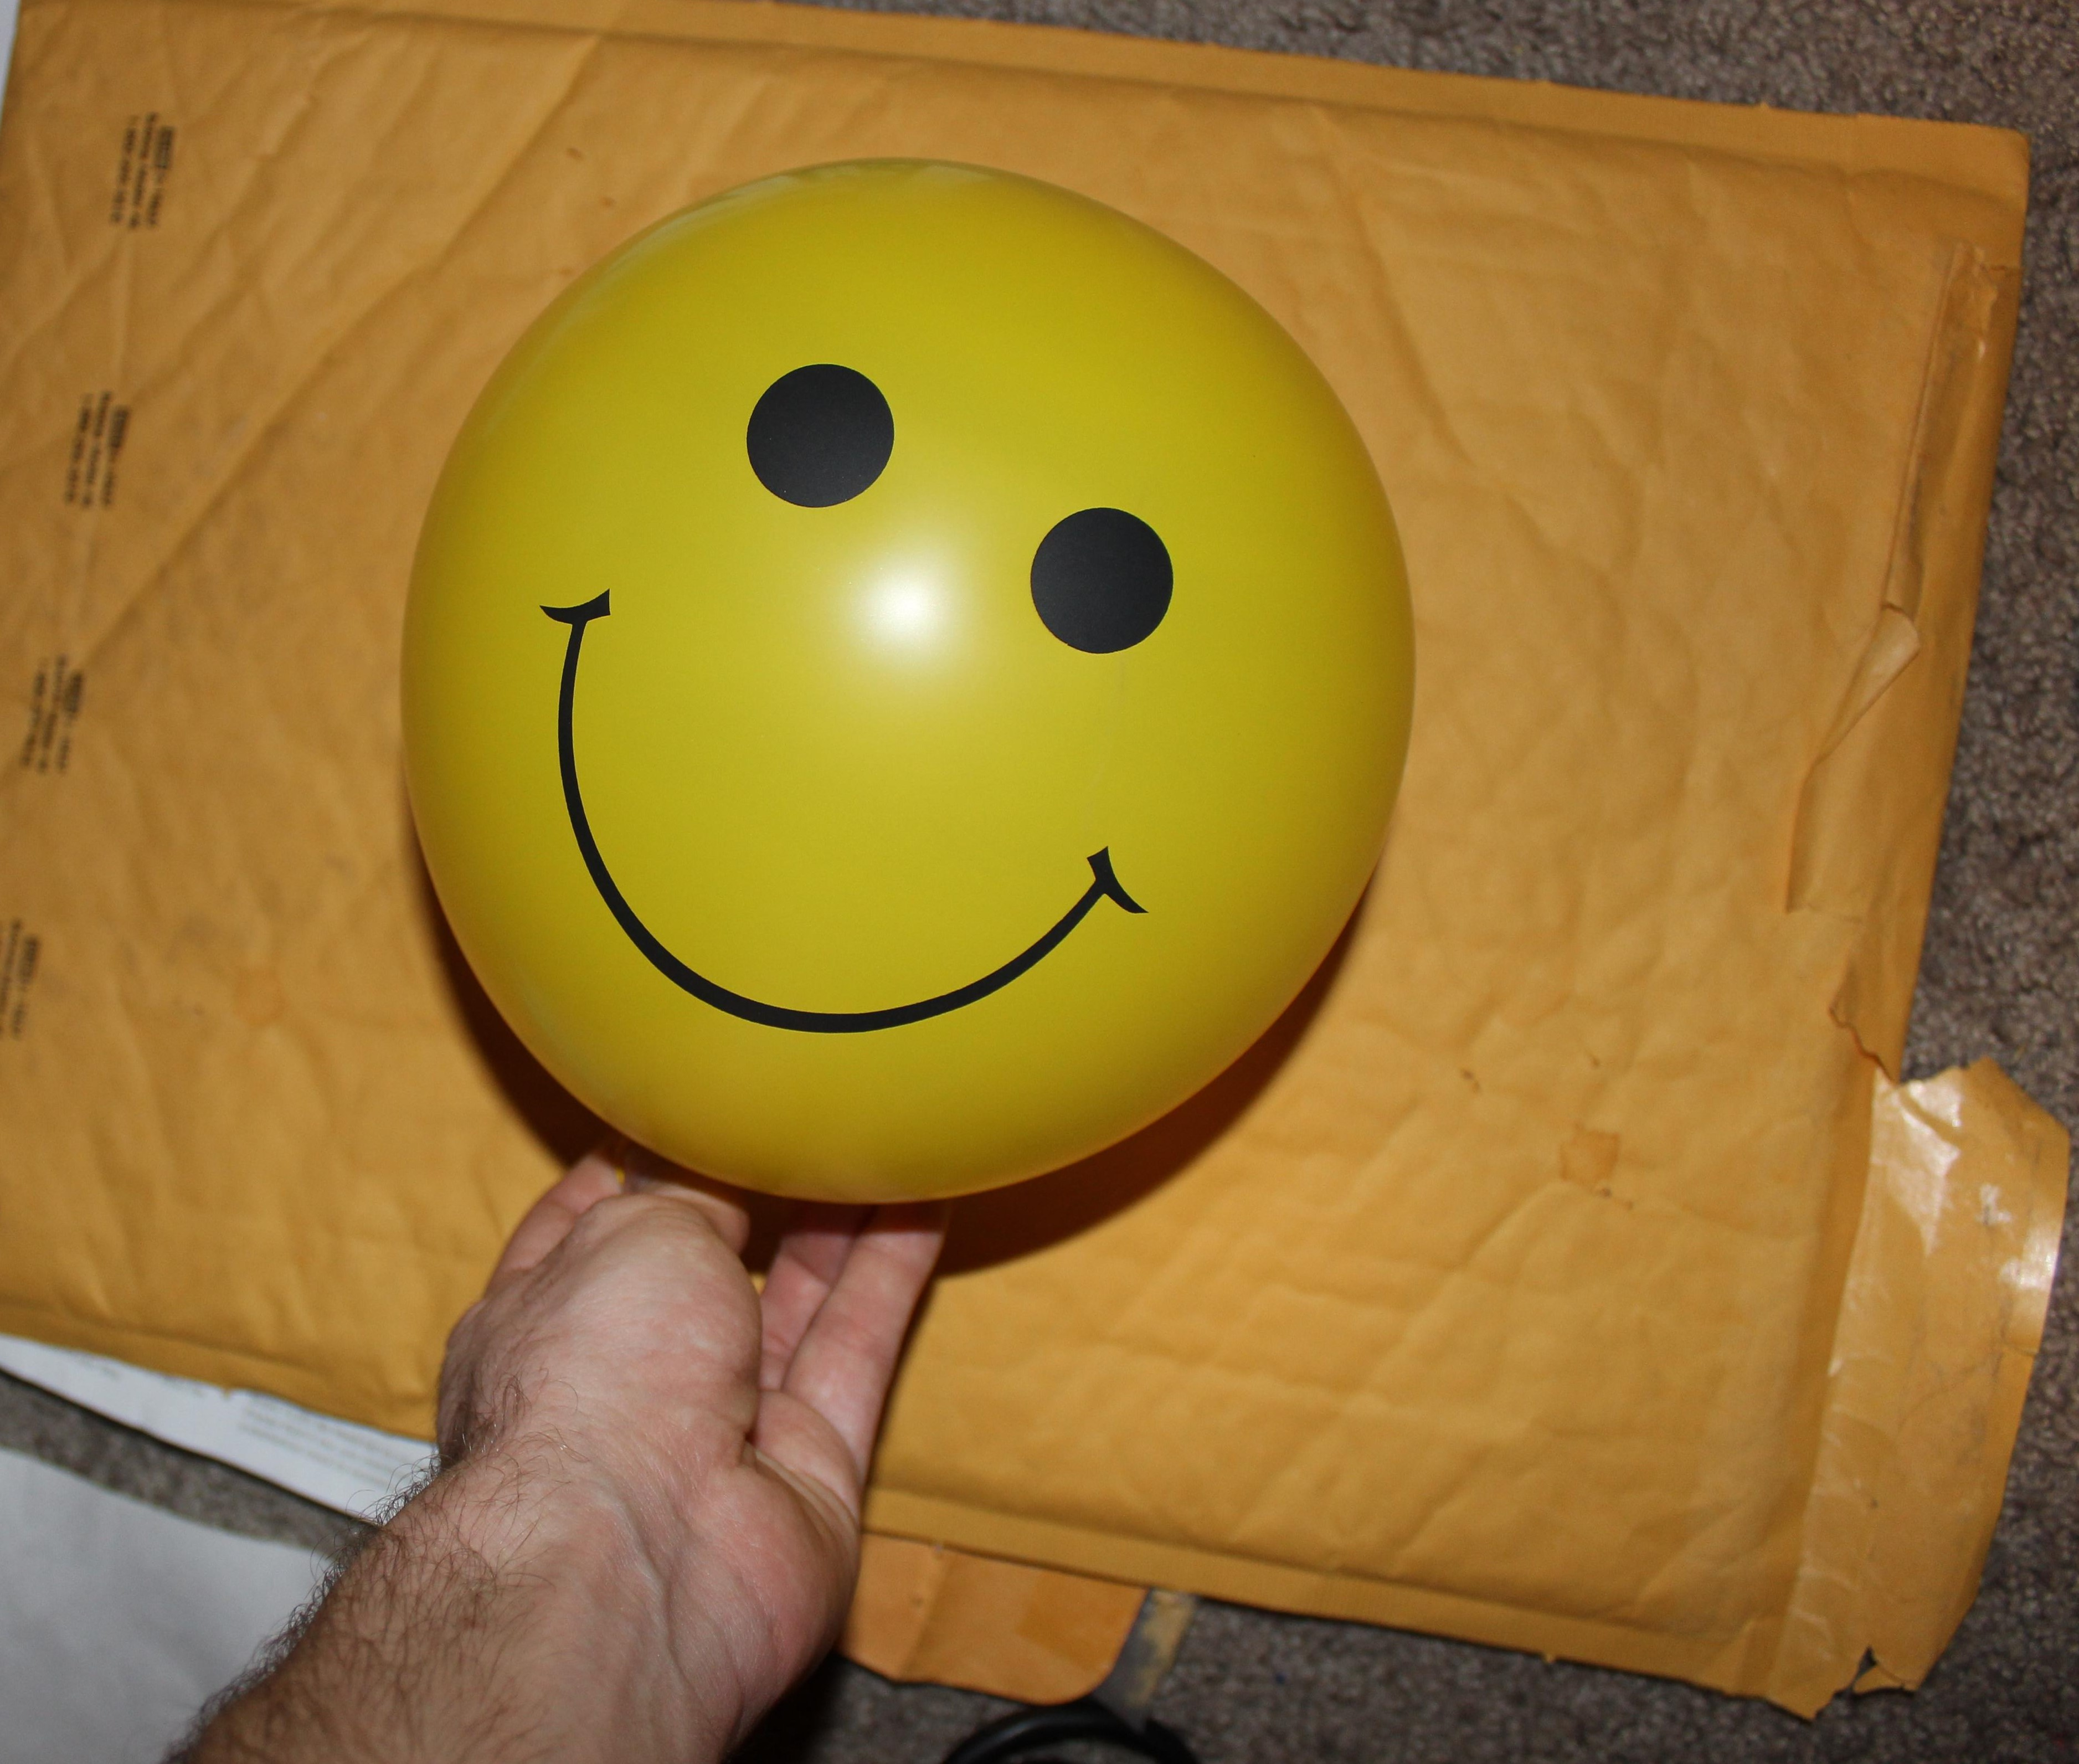yellowBalloon: (346, 117, 1461, 1302)
